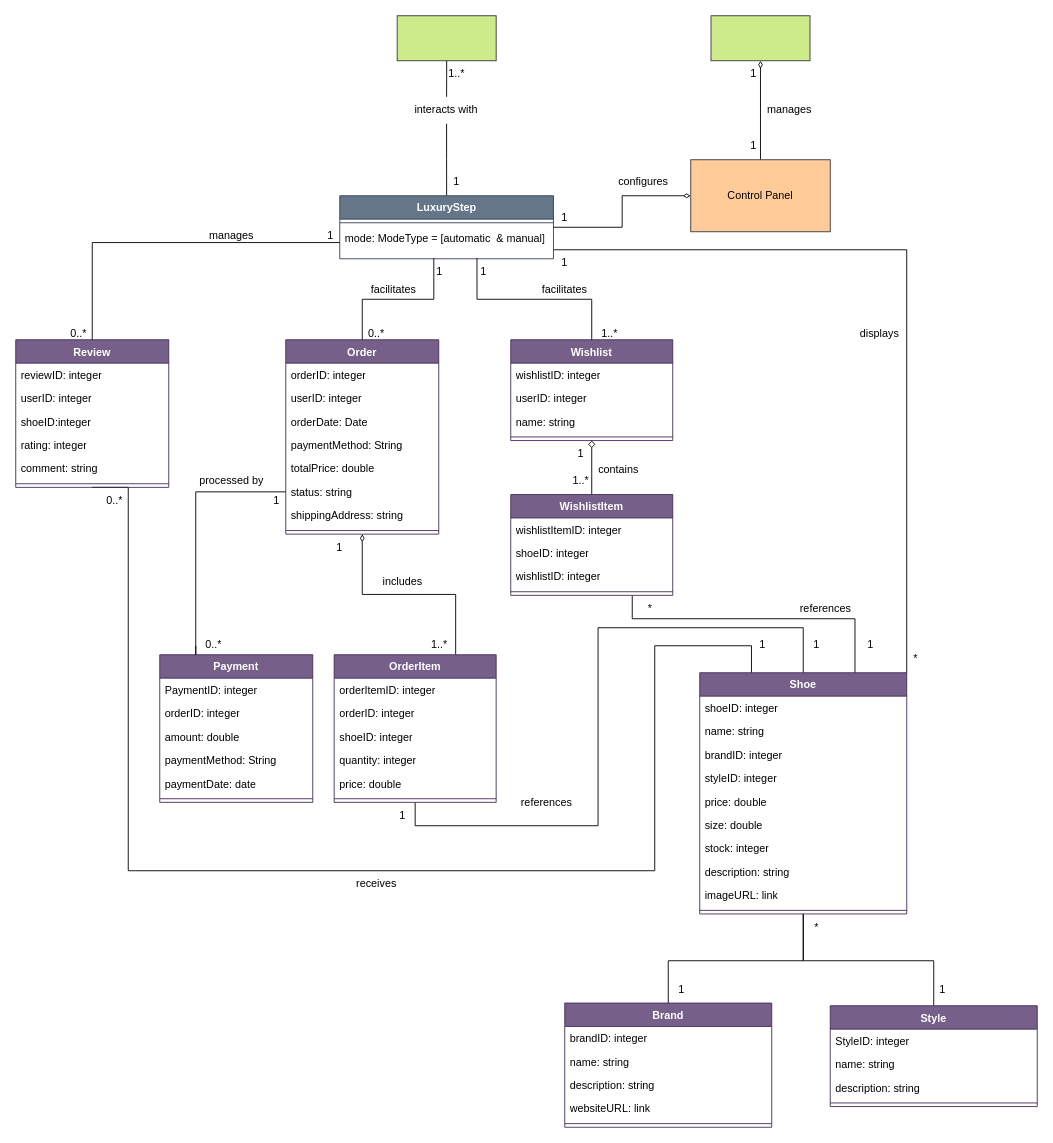
Some shapes in this 1053 by 1143 pixel diagram are drawn without their labels. The shapes that lost their labels are listed below. From the top down, each one's centre as x and y in pixels, then its label:
At point (446, 38): "User".
At point (760, 38): "Admin".
